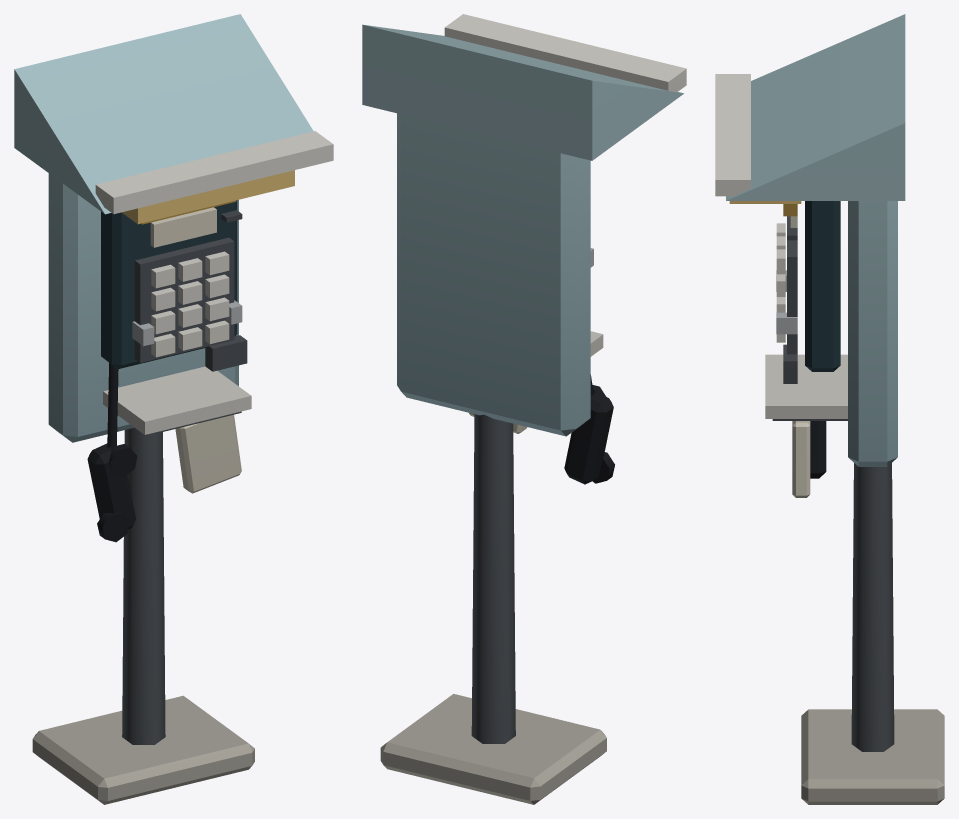
The model's file is payphone_booth.glb.
The picture shows the model from 3 angles, left to right: view 1: azimuth 30°, elevation 25°; view 2: azimuth 150°, elevation 25°; view 3: azimuth 270°, elevation 25°; orthographic projection. The views are drawn at different scales.
Visible parts, largest first — view 1: payphone_booth; view 2: payphone_booth; view 3: payphone_booth.
Part boxes in pixels (x1,y1,x2,y2): payphone_booth: (14, 14, 333, 804); payphone_booth: (362, 14, 686, 804); payphone_booth: (715, 14, 944, 804).
Bounding box in the file's own units: 0.72 × 2.16 × 0.64.
